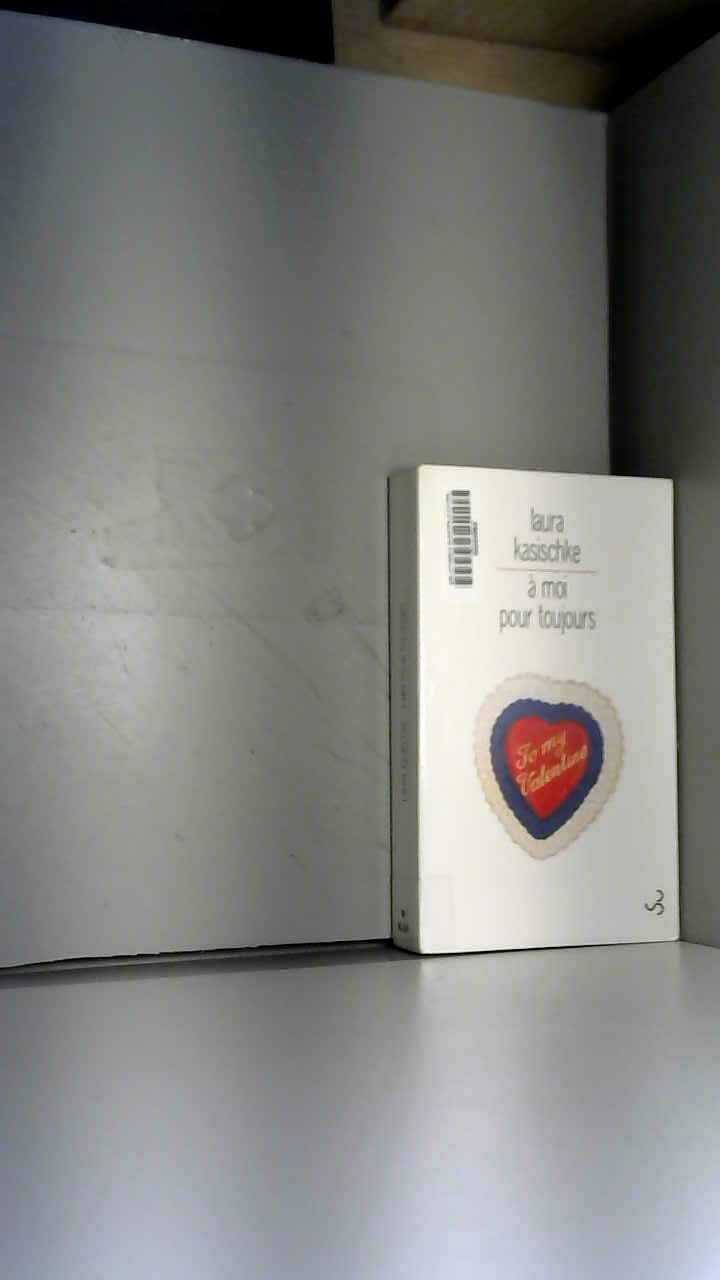book: (347, 418, 715, 993)
